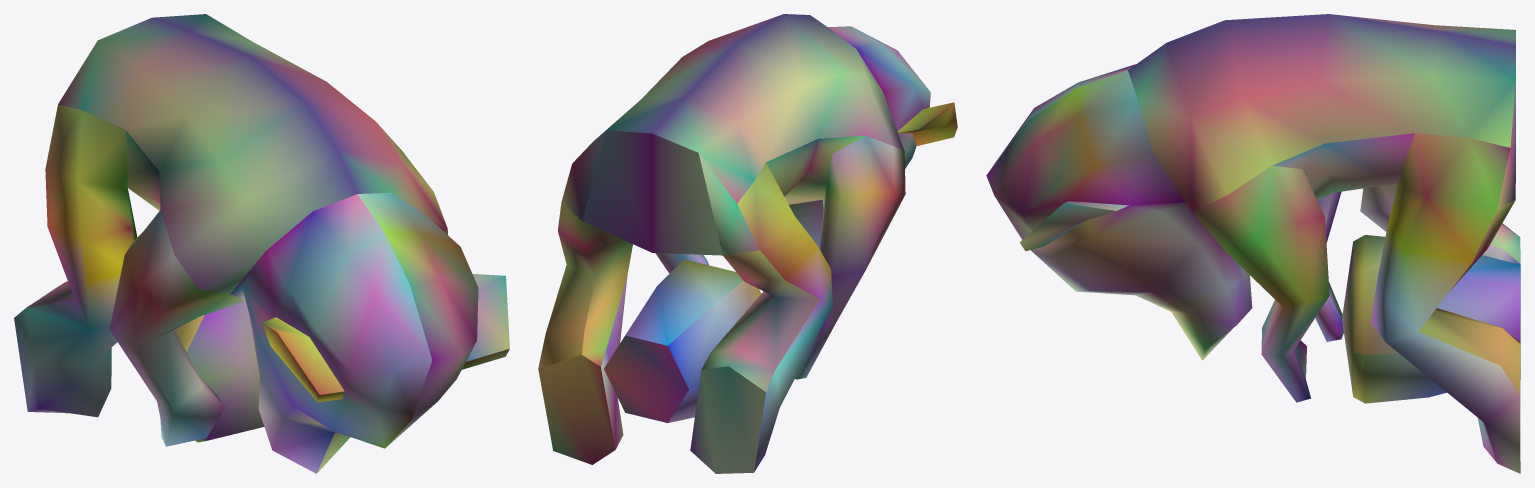
Rendered from MonkeyStatue.glb.
3 renders of one model, left to right at view 1: azimuth 30°, elevation 25°; view 2: azimuth 150°, elevation 25°; view 3: azimuth 270°, elevation 25°, orthographic. The views are drawn at different scales.
Visible parts, largest first — view 1: MeshNode_0; view 2: MeshNode_0; view 3: MeshNode_0.
Boxes of the visible parts, <box> form: MeshNode_0: <box>14,14,509,473</box>; MeshNode_0: <box>538,14,957,473</box>; MeshNode_0: <box>986,14,1520,473</box>.
Bounding box in the file's own units: 2.85 × 3.97 × 4.66.
